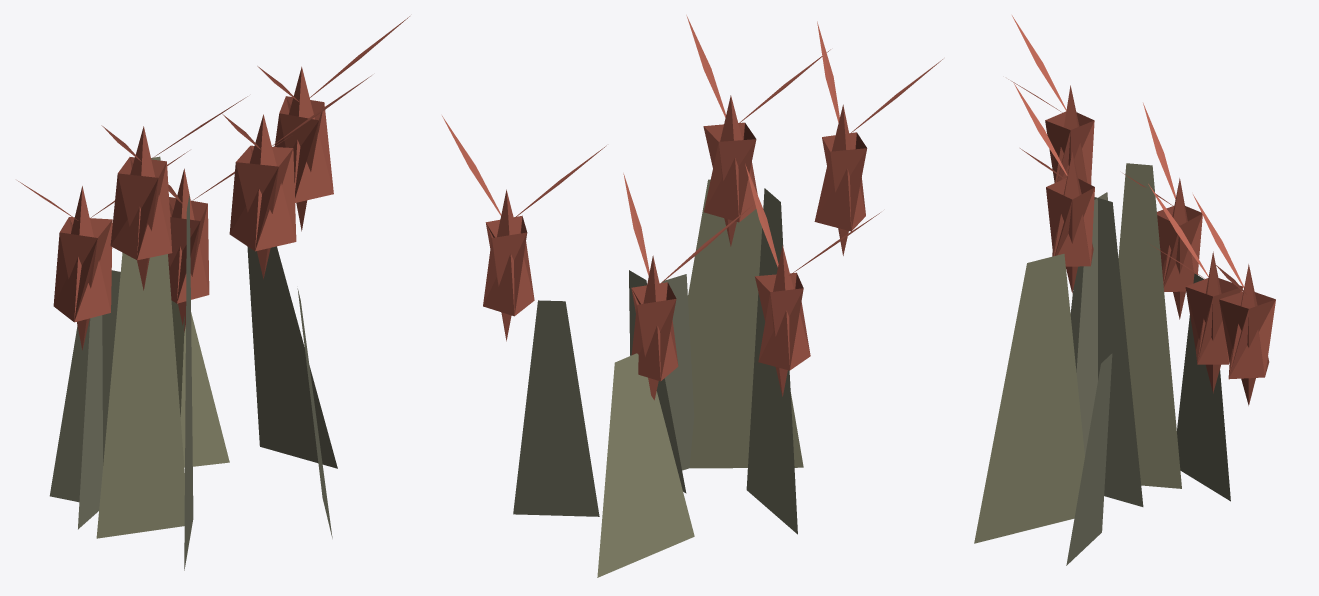
The model's file is cao.yangmao@fruiting__winter.glb.
3 renders of one model, left to right at view 1: azimuth 30°, elevation 25°; view 2: azimuth 150°, elevation 25°; view 3: azimuth 270°, elevation 25°, orthographic. The views are drawn at different scales.
Parts seen in each view (by area): view 1: cao.yangmao@fruiting__winter; view 2: cao.yangmao@fruiting__winter; view 3: cao.yangmao@fruiting__winter.
Part boxes in pixels (x1,y1,x2,y2): cao.yangmao@fruiting__winter: (17, 16, 409, 570); cao.yangmao@fruiting__winter: (442, 15, 942, 577); cao.yangmao@fruiting__winter: (974, 15, 1275, 565).
Bounding box in the file's own units: 0.6944 × 0.7396 × 0.525.
